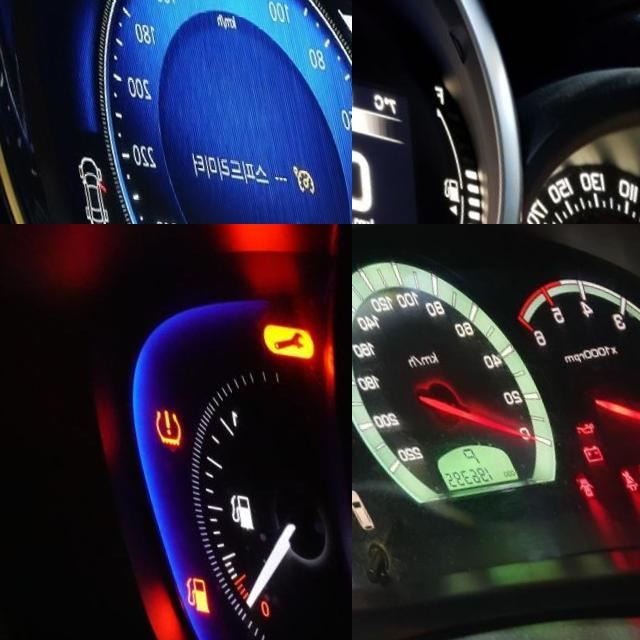Doors: (561, 463, 584, 488)
Low fuel level: (164, 569, 192, 608)
